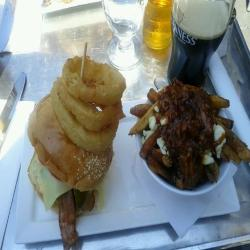burger: (23, 64, 116, 215)
fries: (141, 88, 234, 182)
